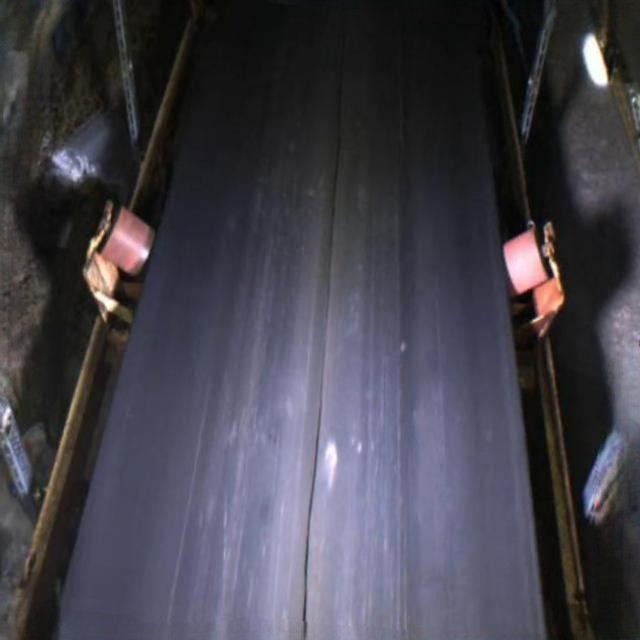Tear: (296, 57, 355, 640)
